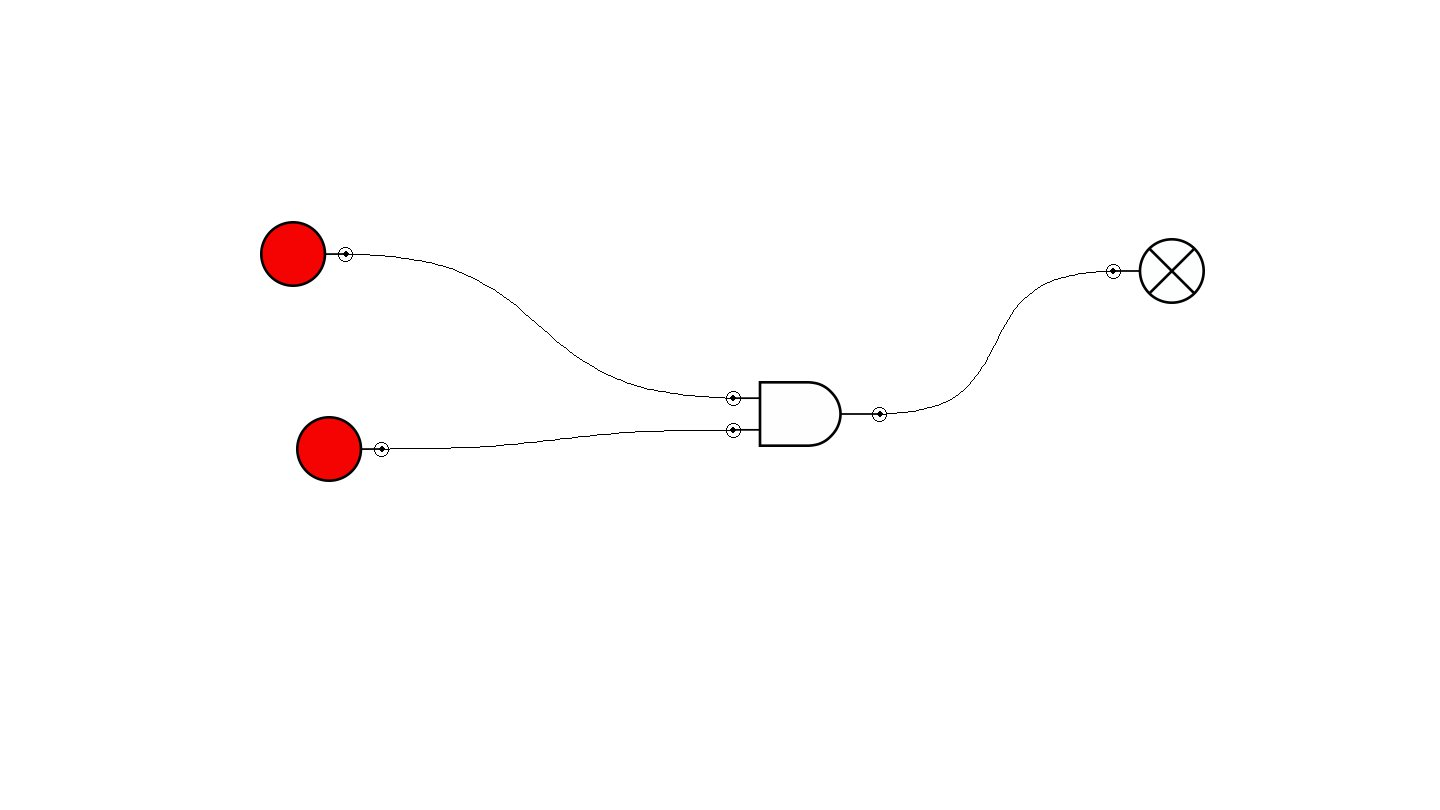and: (726, 381, 887, 447)
bulb: (1106, 238, 1205, 304)
switch_False: (260, 221, 353, 287), (296, 416, 389, 482)
